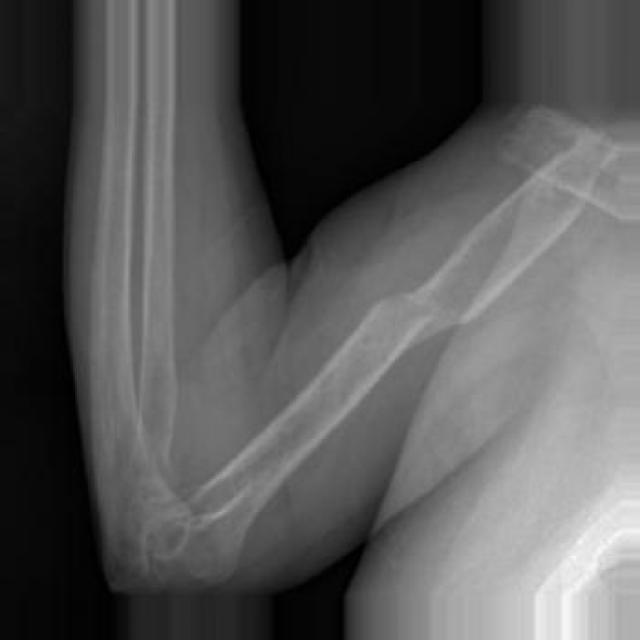Fracture: (389, 269, 466, 360)
